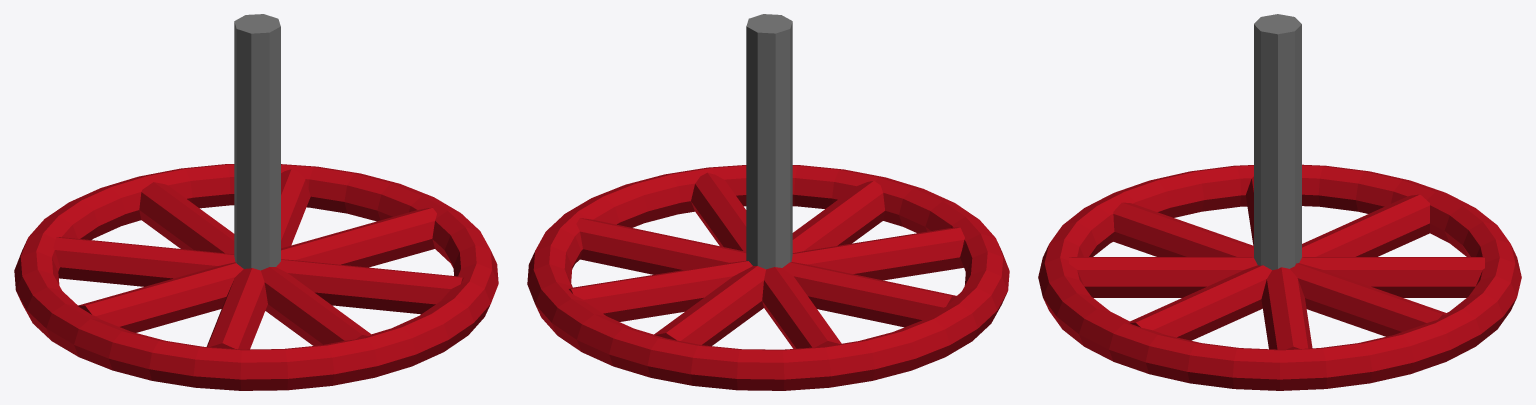
The model's file is big_valve.fbx.
3 views of the same model, side by side, from view 1: azimuth 30°, elevation 25°; view 2: azimuth 150°, elevation 25°; view 3: azimuth 270°, elevation 25° (orthographic).
Visible parts, largest first — view 1: Cylinder.001; view 2: Cylinder.001; view 3: Cylinder.001.
Boxes of the visible parts, x1=… form: Cylinder.001: x1=14, y1=14, x2=498, y2=390; Cylinder.001: x1=527, y1=14, x2=1009, y2=390; Cylinder.001: x1=1038, y1=14, x2=1521, y2=390.
Size of the model in its own units: 8060 by 5023 by 8060.
